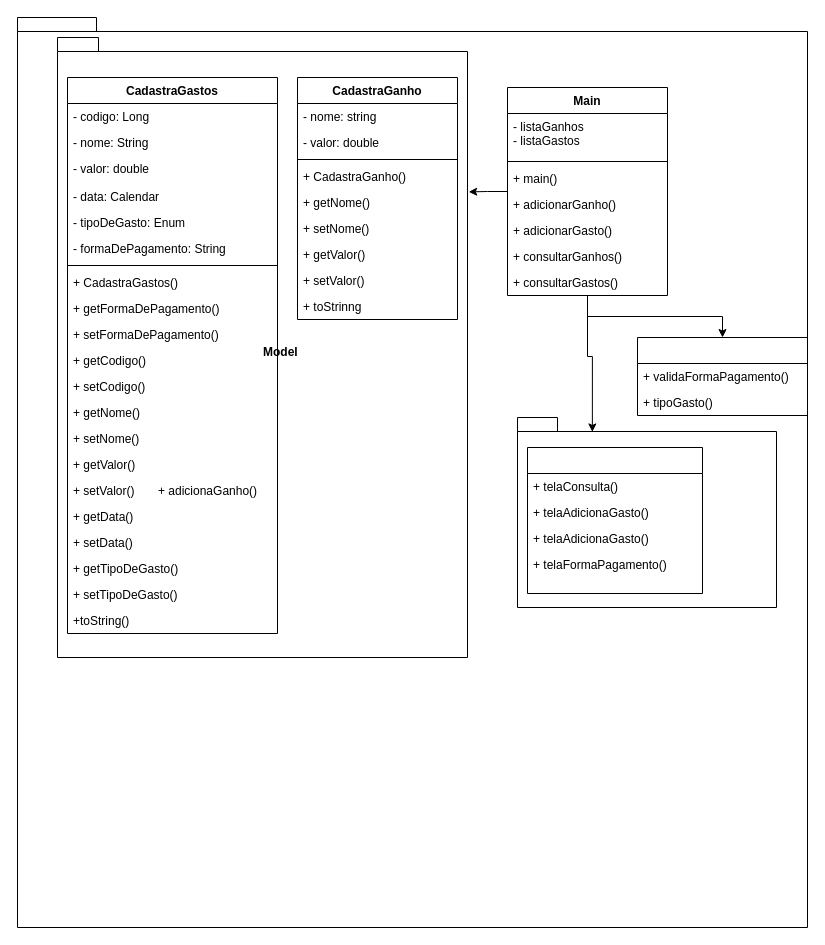
This 825x945 diagram has some shape labels left out. The box of each missing label's shape, as (x1, y1, x2, y2) in pixels:
message: (516, 416, 776, 608)
montaTelas: (526, 446, 702, 594)
validacaoInputTela: (636, 336, 808, 416)
